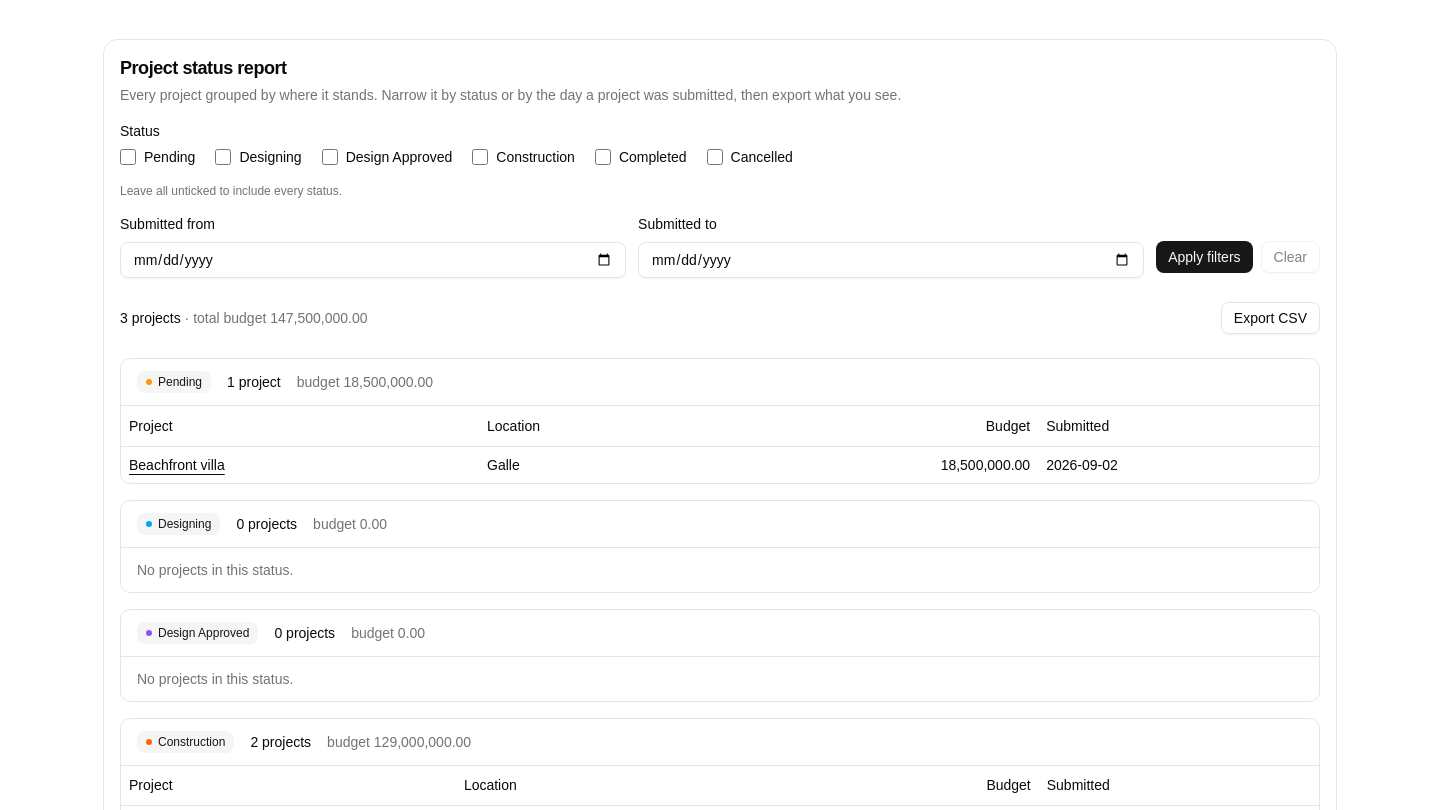
Test: ProjectStatusReportPage — filtering (AC-2) › shows the service’s reason when it refuses a filter
Expected: the element with test id "group-Pending" is shown, [120,358,1320,484]
Click the checkbox labelled "Pending" at (128, 157), box [120,149,136,165]
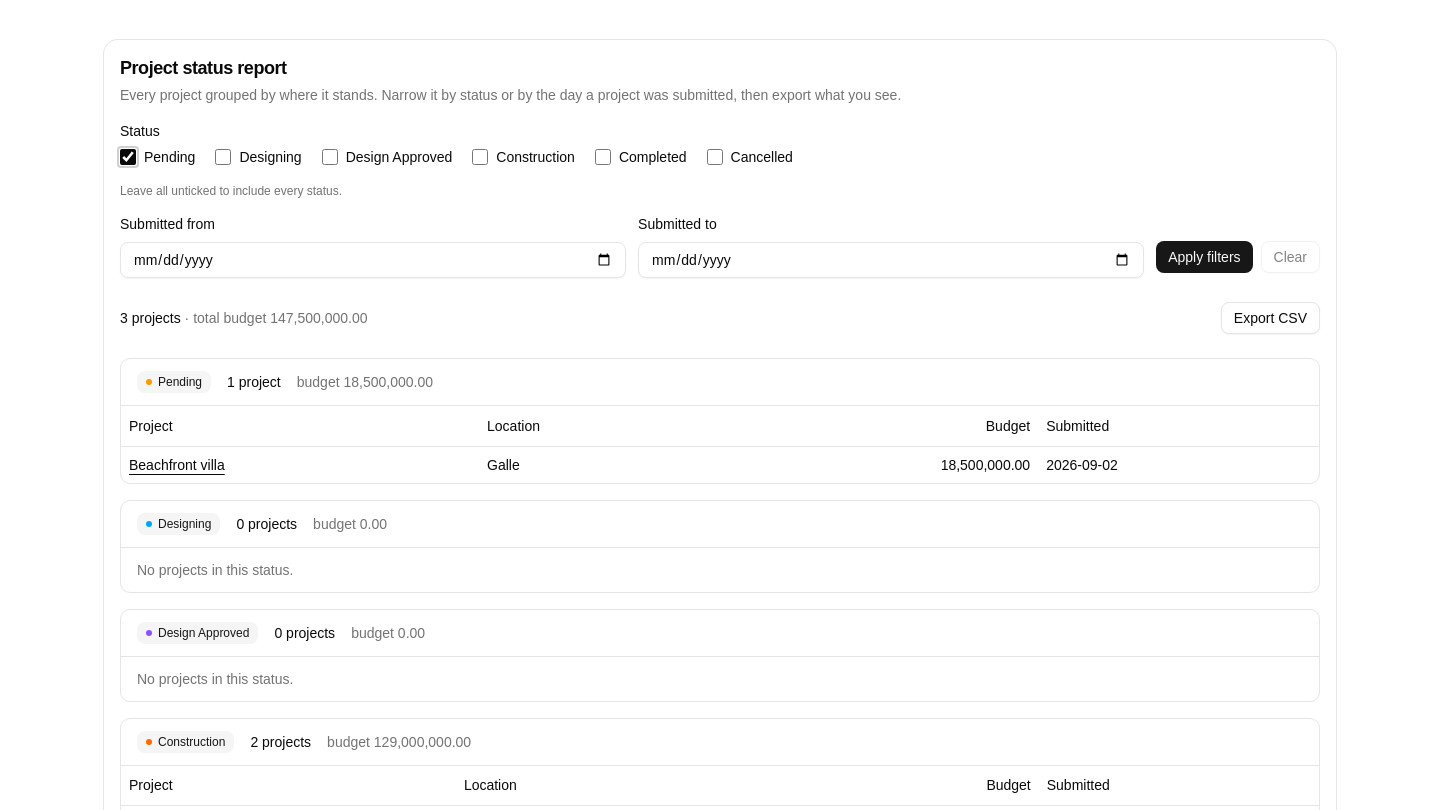
Click the button "Apply filters" at (1204, 257), box [1156,241,1253,273]
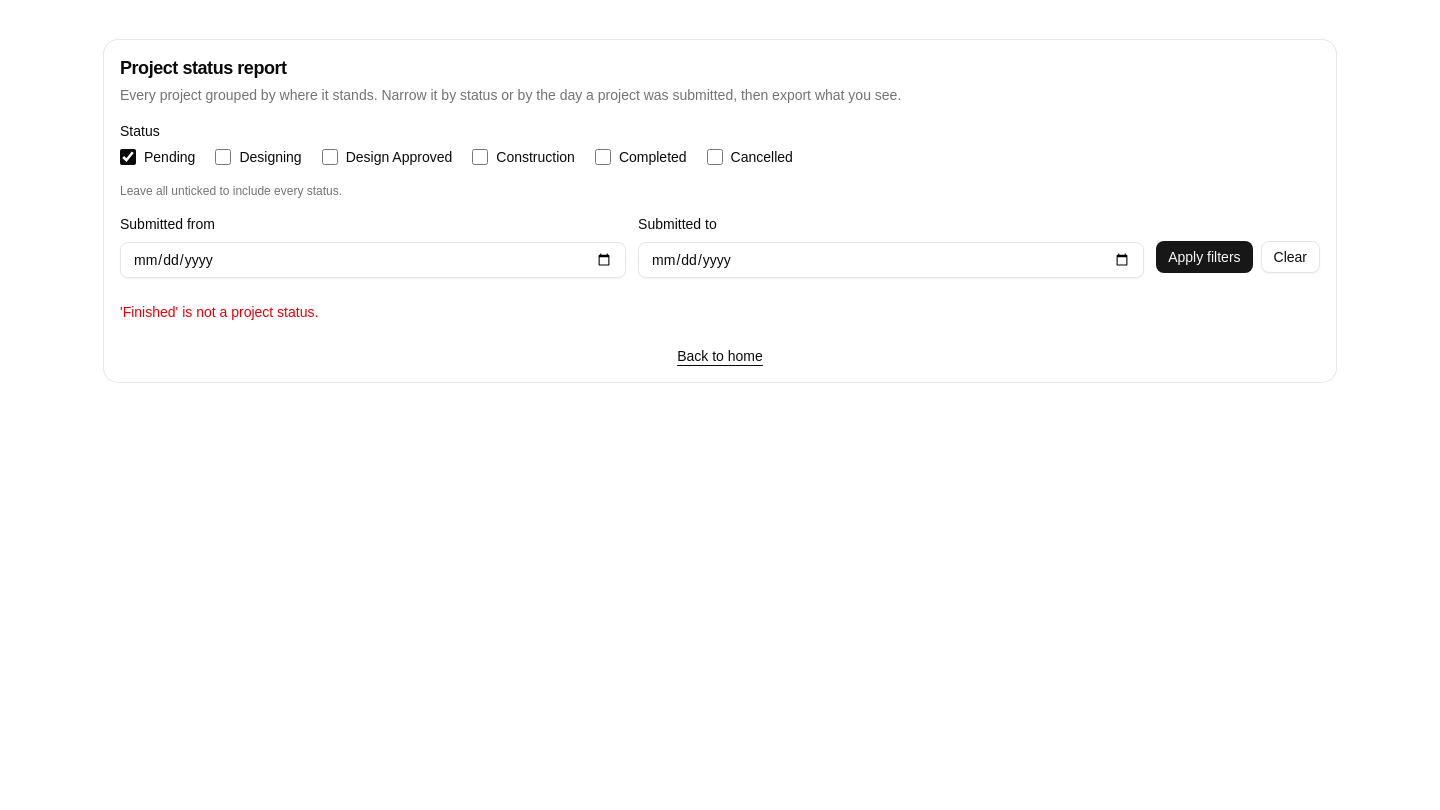
Expected: the message reads "'Finished' is not a project status.", [120,304,318,320]
